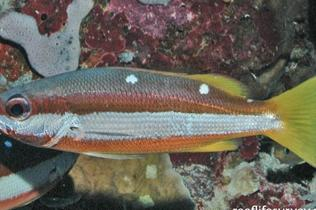Lutjanidae -Snappers-: (0, 62, 316, 171)
